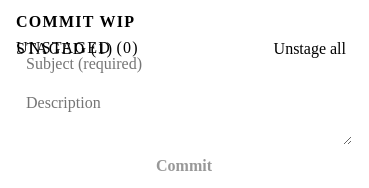
Scenario: CommitComposer › populates subject + description on successful generation
Step 1. Click the button named "generate commit message" → [335, 64], box [318, 49, 352, 79]
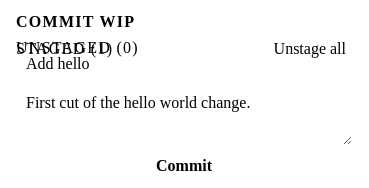
Now the field with placeholder "Subject (required)" holds "Add hello", box [16, 49, 312, 79]
Now the text box with placeholder "Description" holds "First cut of the hello world change.", box [16, 85, 352, 145]
